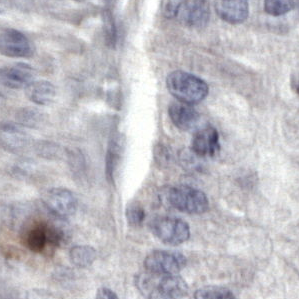Lymphocyte: (26, 223, 48, 252)
